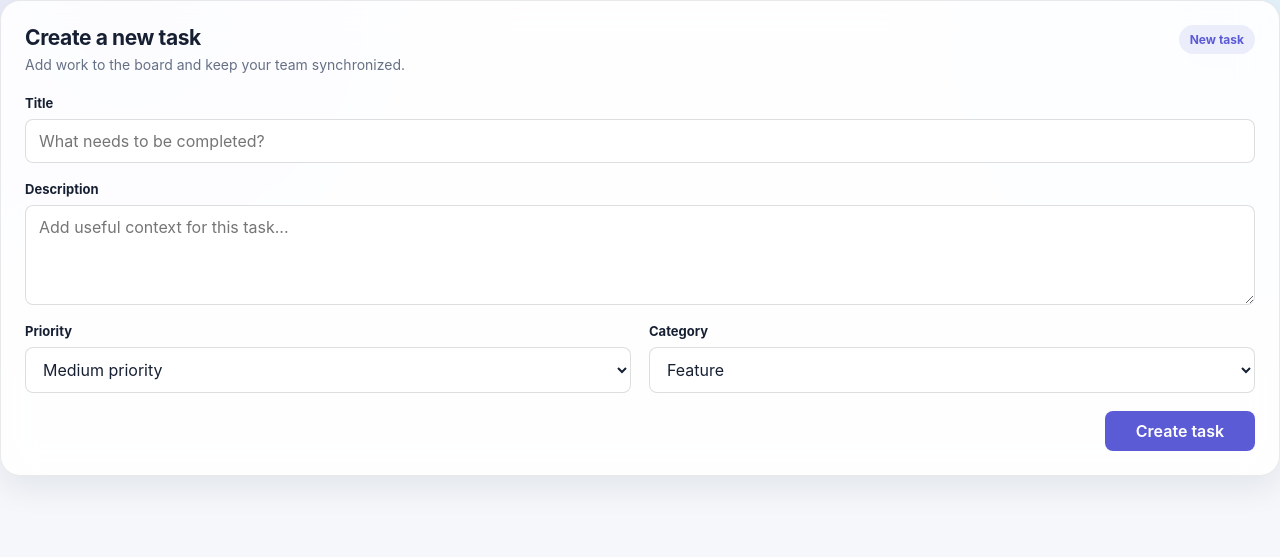
Scenario: CreateTaskForm › shows validation error when title is empty
What coordinates should you click on to do the following:
click the button "Create task"
I would click on:
 (1180, 431)
Its box is [1105,411,1255,451].
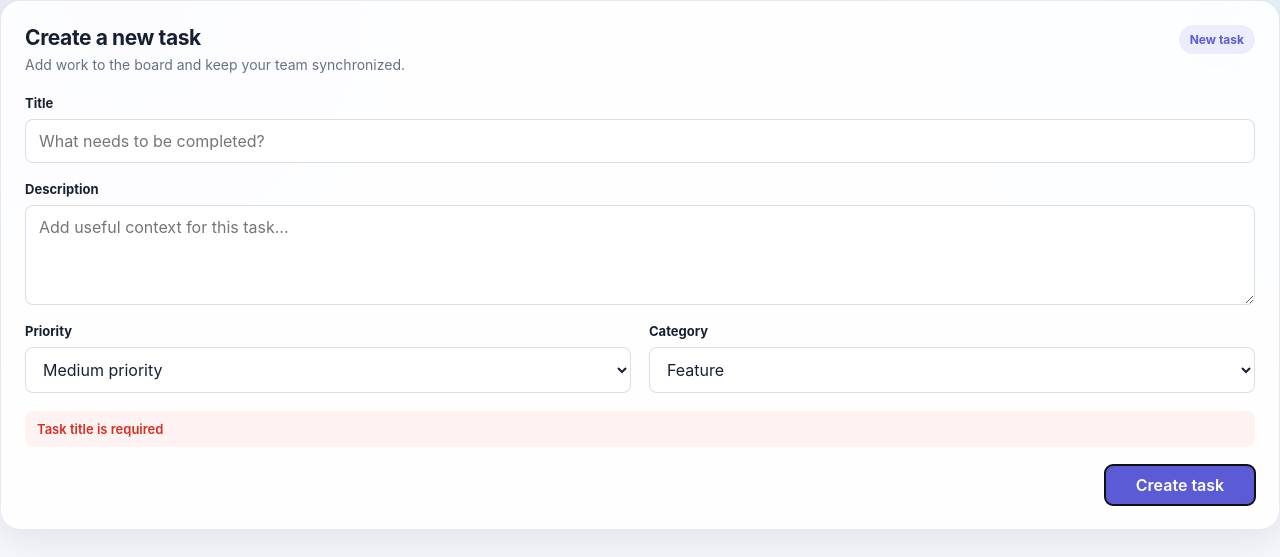
Now the text "Task title is required" is shown, box [25,411,1255,447]
